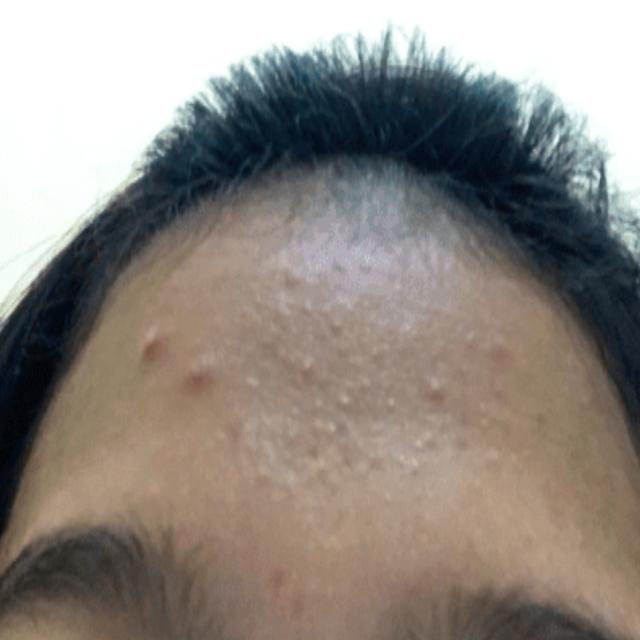fungal: (231, 270, 497, 512)
